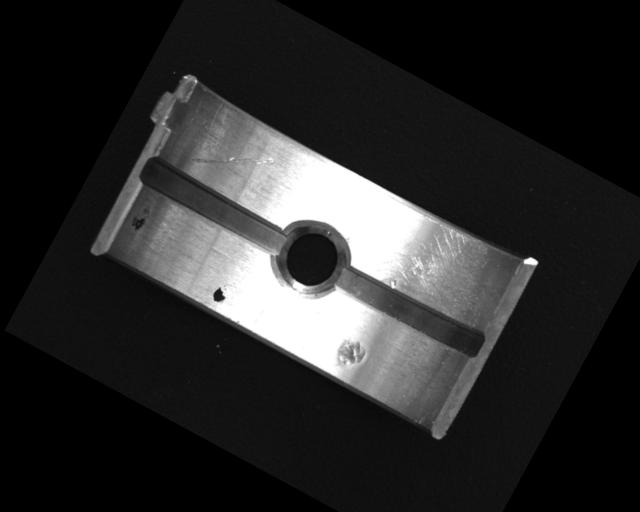blot: (127, 201, 153, 234), (210, 282, 231, 305)
bruise: (329, 334, 370, 378)
gap: (325, 254, 489, 364), (132, 153, 294, 262)
hole: (258, 205, 361, 310)
nick: (190, 123, 277, 196)
scratch: (346, 189, 513, 332)
